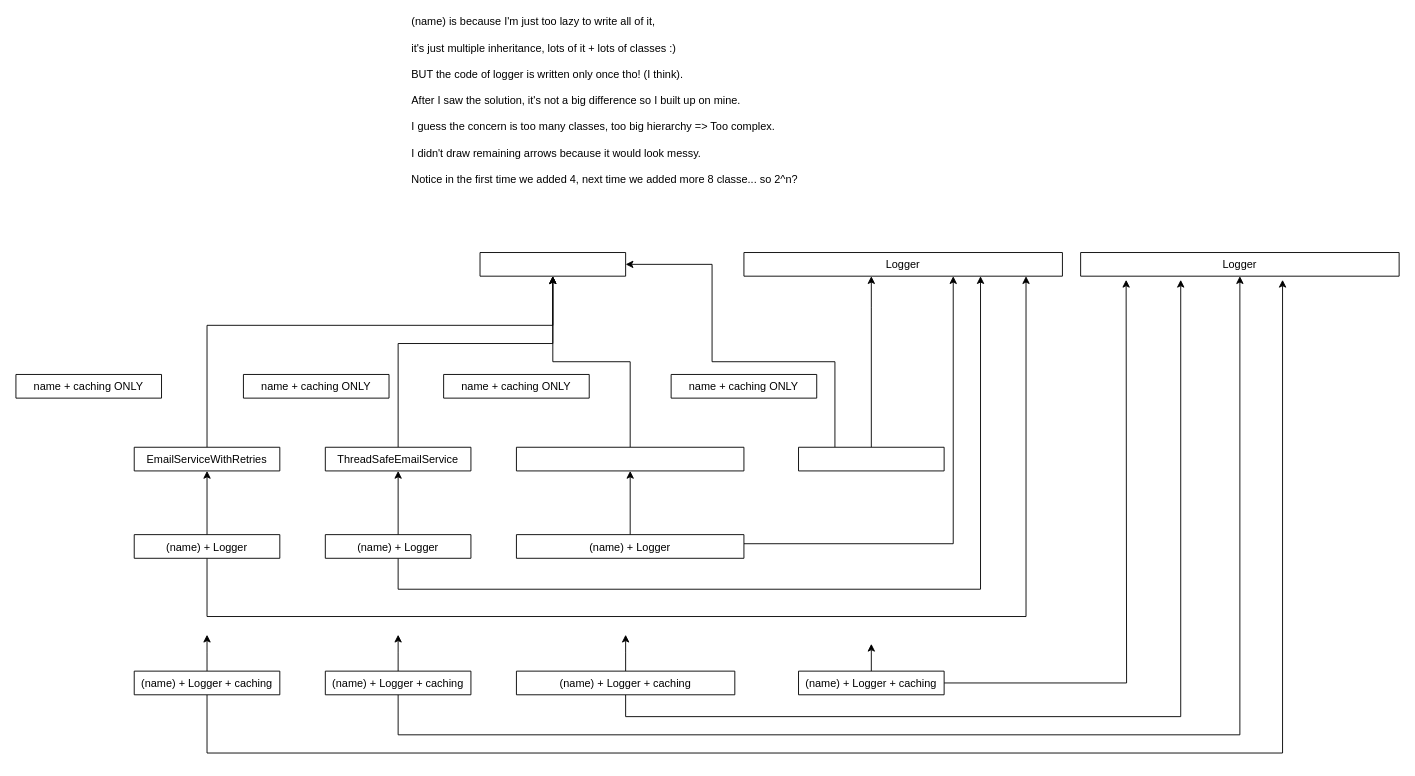
The diagram is 1415 pixels wide and 776 high, and some of its shapes have lost their labels. The centre of each missing label's shape, as x and y in pixels:
"EmailService" belongs at point 552,264.
"name + Logger" belongs at point 871,458.
"ThreadSafeEmailServiceWithRetries" belongs at point 630,458.
